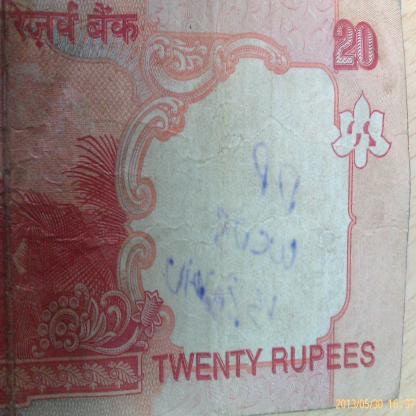Old20Back: (0, 0, 405, 391)
